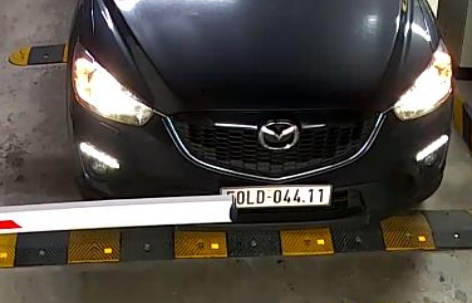plate: (222, 181, 333, 210)
